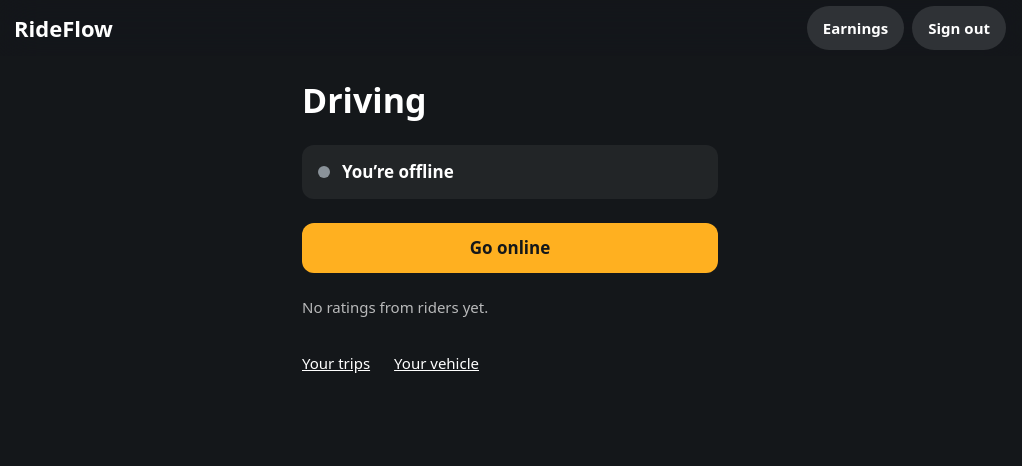
Test: an approved driver › is told why, when the server refuses
This screenshot has width=1022, height=466.
What coordinates should you click on to do the following:
click the button "Go online"
I would click on:
 (510, 248)
Its box is [302,223,718,273].
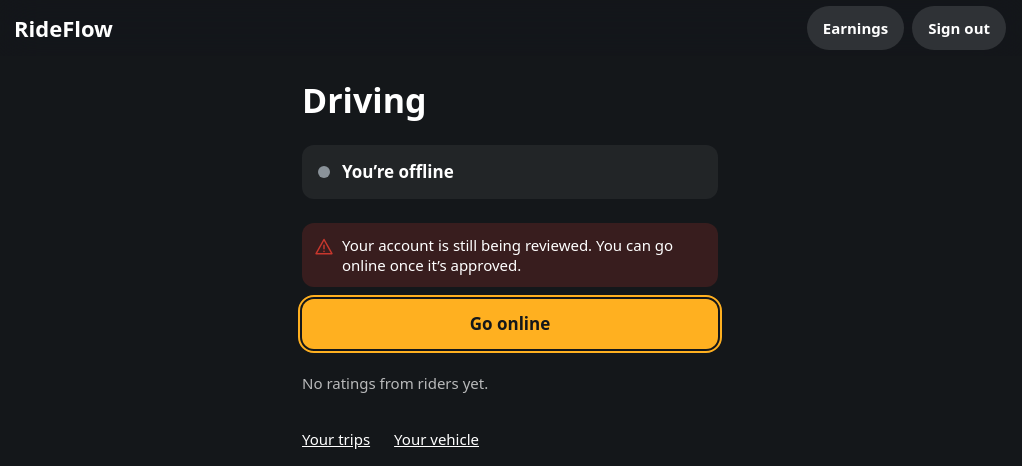
Expected: the message reads "Your account is still being reviewed. You can go online once it’s approved.", [342,235,673,275]
